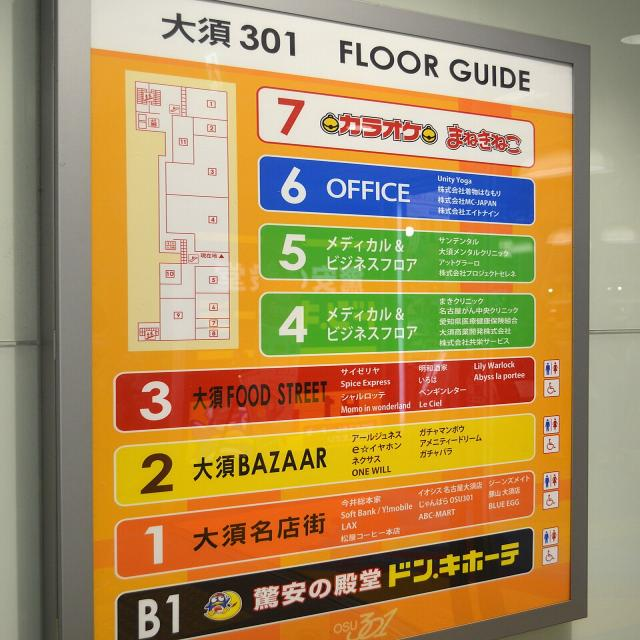building: (154, 3, 304, 67)
facility: (248, 538, 522, 619), (317, 104, 526, 163), (339, 501, 414, 522), (417, 480, 484, 498), (339, 526, 402, 545), (418, 433, 484, 449), (337, 401, 412, 415), (436, 184, 502, 199), (436, 205, 501, 220), (417, 493, 476, 509), (438, 268, 518, 279), (438, 246, 511, 258), (348, 429, 405, 444), (437, 316, 521, 326), (437, 336, 513, 347), (436, 195, 498, 208), (437, 326, 516, 336), (349, 441, 405, 455), (338, 377, 393, 390), (417, 423, 468, 437), (486, 473, 531, 488), (473, 371, 529, 383), (340, 494, 384, 509), (438, 307, 520, 315), (350, 464, 395, 478), (417, 507, 458, 522), (338, 390, 389, 402), (418, 385, 469, 397), (471, 360, 517, 372), (437, 235, 482, 247), (418, 447, 458, 460), (486, 497, 523, 511), (436, 173, 475, 186), (487, 485, 523, 499), (437, 296, 486, 306), (438, 257, 482, 268), (338, 366, 381, 377), (349, 454, 383, 466), (415, 363, 449, 374), (416, 398, 446, 409), (339, 520, 359, 532), (416, 375, 439, 385)
floor: (129, 589, 187, 640), (132, 447, 180, 499), (129, 377, 178, 424), (135, 519, 175, 571), (275, 160, 316, 208), (271, 91, 309, 142), (273, 228, 314, 275), (274, 301, 314, 348)
